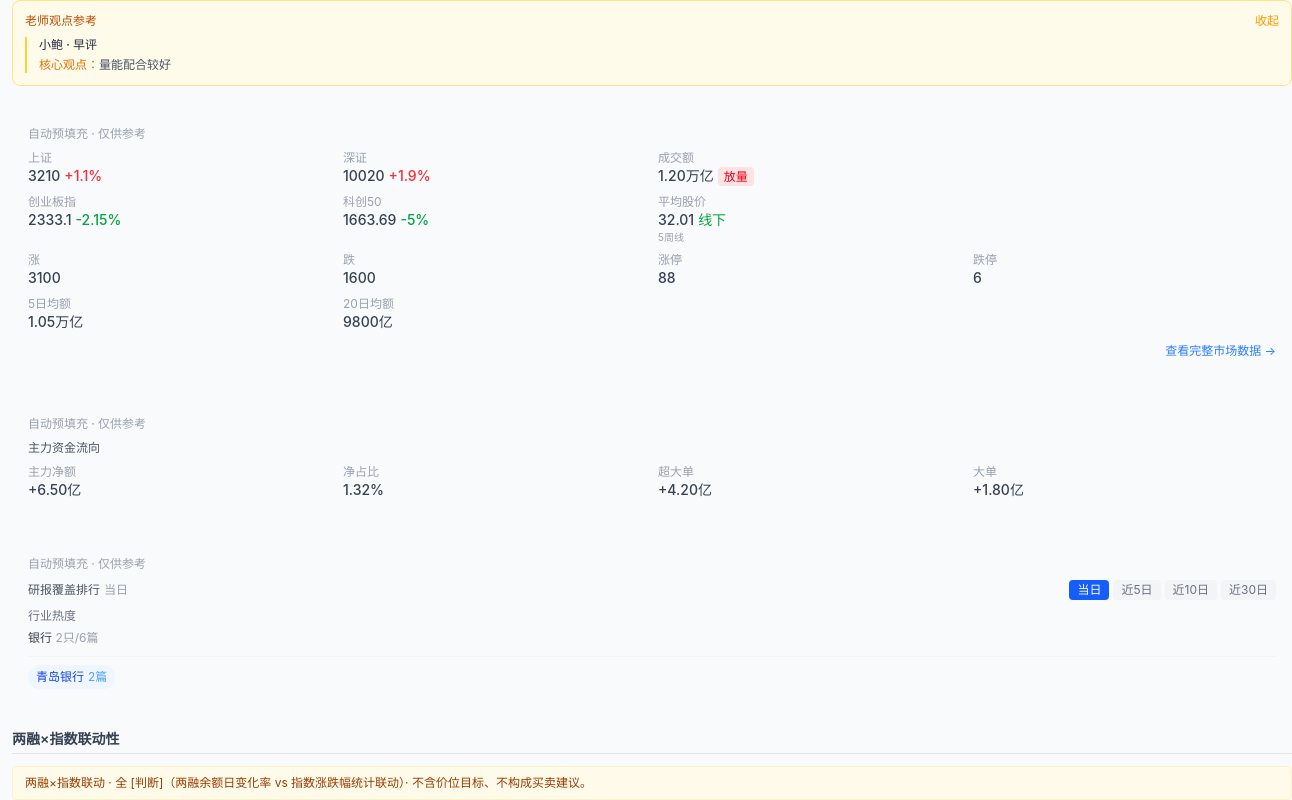
Test: StepMarket › loads range industry + items when switching to 近5日 tab
Click the button "近5日": {"x": 1137, "y": 590} [1113, 580, 1160, 600]
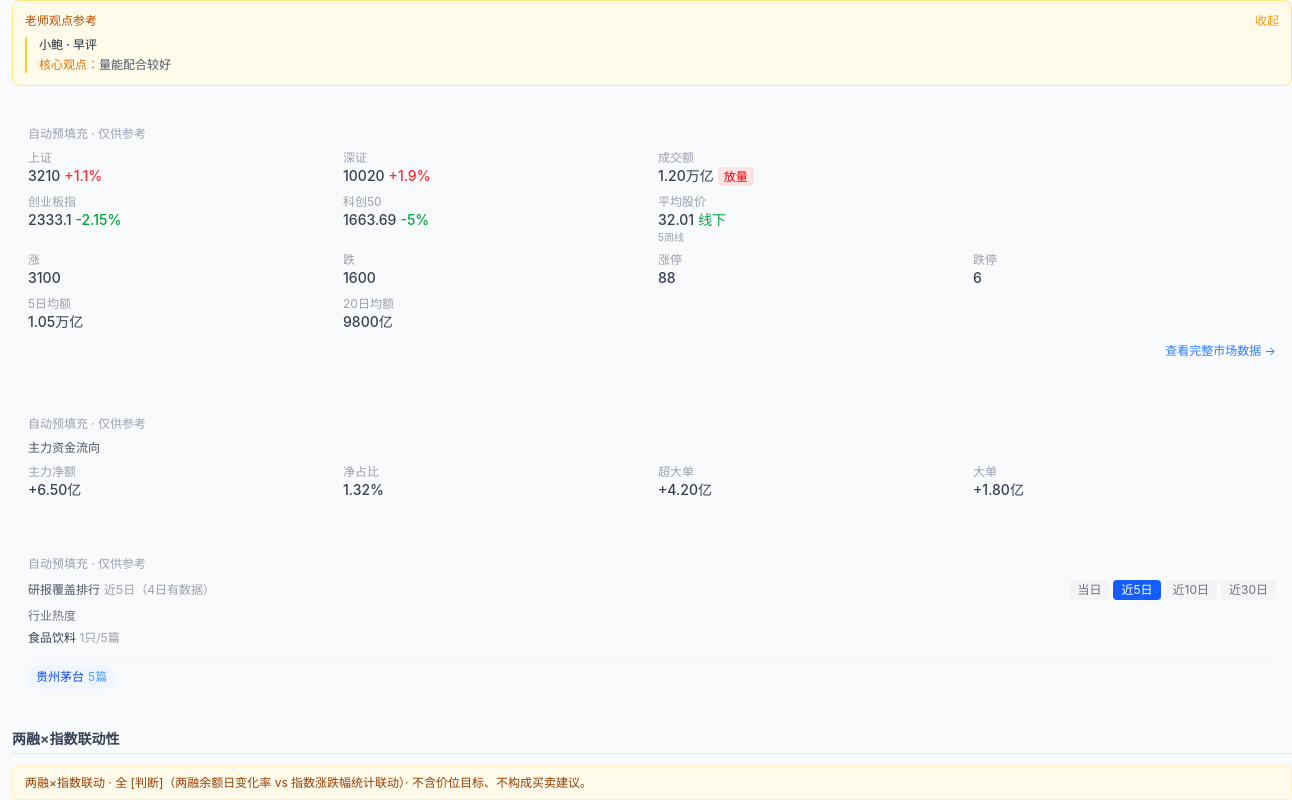
Expected: the text "食品饮料" is shown, [28, 630, 76, 645]
Expected: the text "贵州茅台" is shown, [36, 669, 84, 685]
